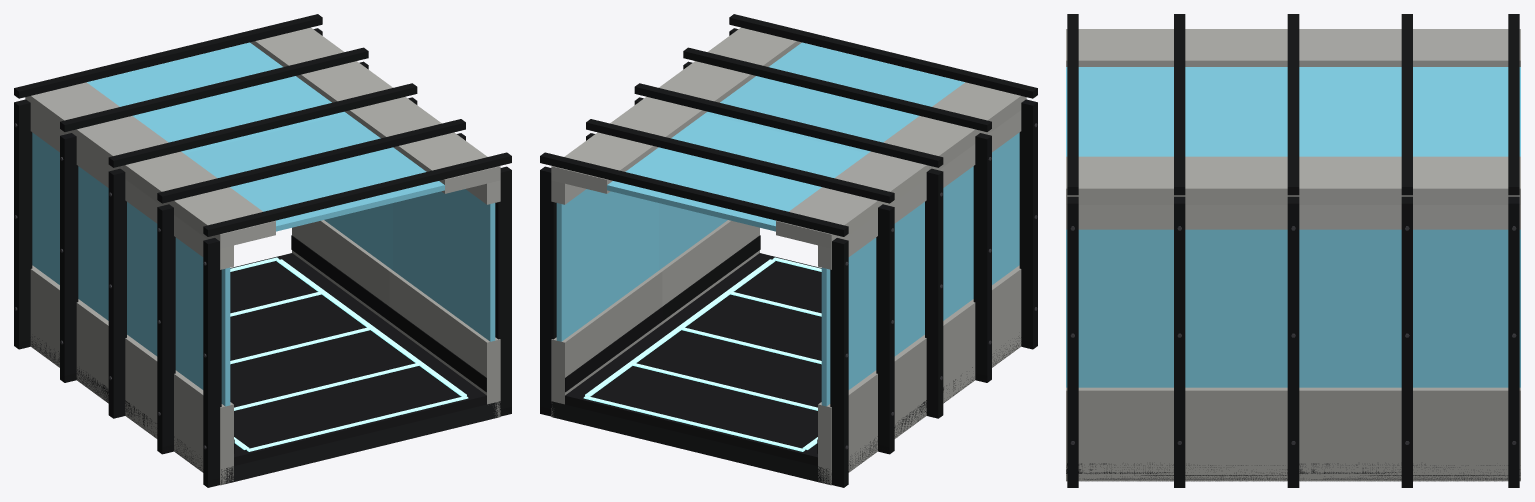
File: chute_adv_h_straight.glb
3 views of the same model, side by side, from view 1: azimuth 30°, elevation 25°; view 2: azimuth 150°, elevation 25°; view 3: azimuth 270°, elevation 25° (orthographic). The views are drawn at different scales.
Parts seen in each view (by area): view 1: Frame, Power; view 2: Frame, Power; view 3: Frame.
Part boxes in pixels (box(x1,y1,x2,y2)): Frame: box(14, 14, 511, 487); Power: box(230, 257, 468, 451); Frame: box(540, 14, 1037, 487); Power: box(583, 257, 821, 451); Frame: box(1066, 14, 1520, 487).
Size of the model in its own units: 1.81 by 1.46 by 2.
